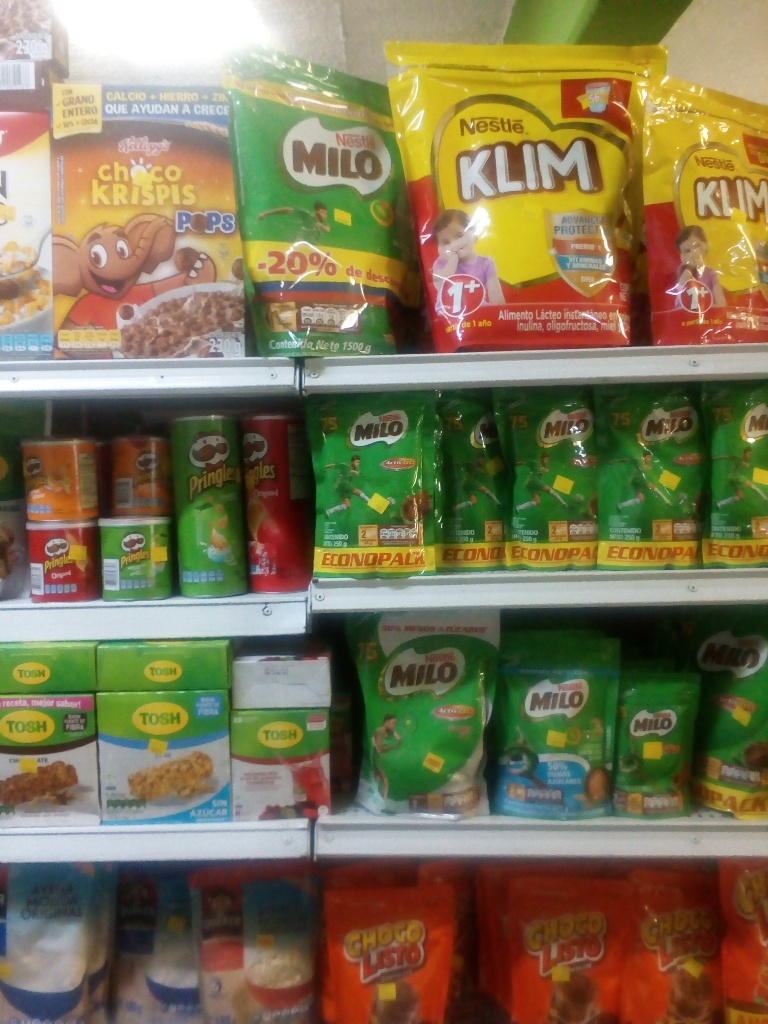COL0170203DYP10000: (612, 667, 702, 816)
COL0170203DYP25000: (703, 378, 766, 565)
COL0170205DYP20000: (495, 628, 621, 820)
COL0170205DYP50000: (342, 612, 499, 817)
